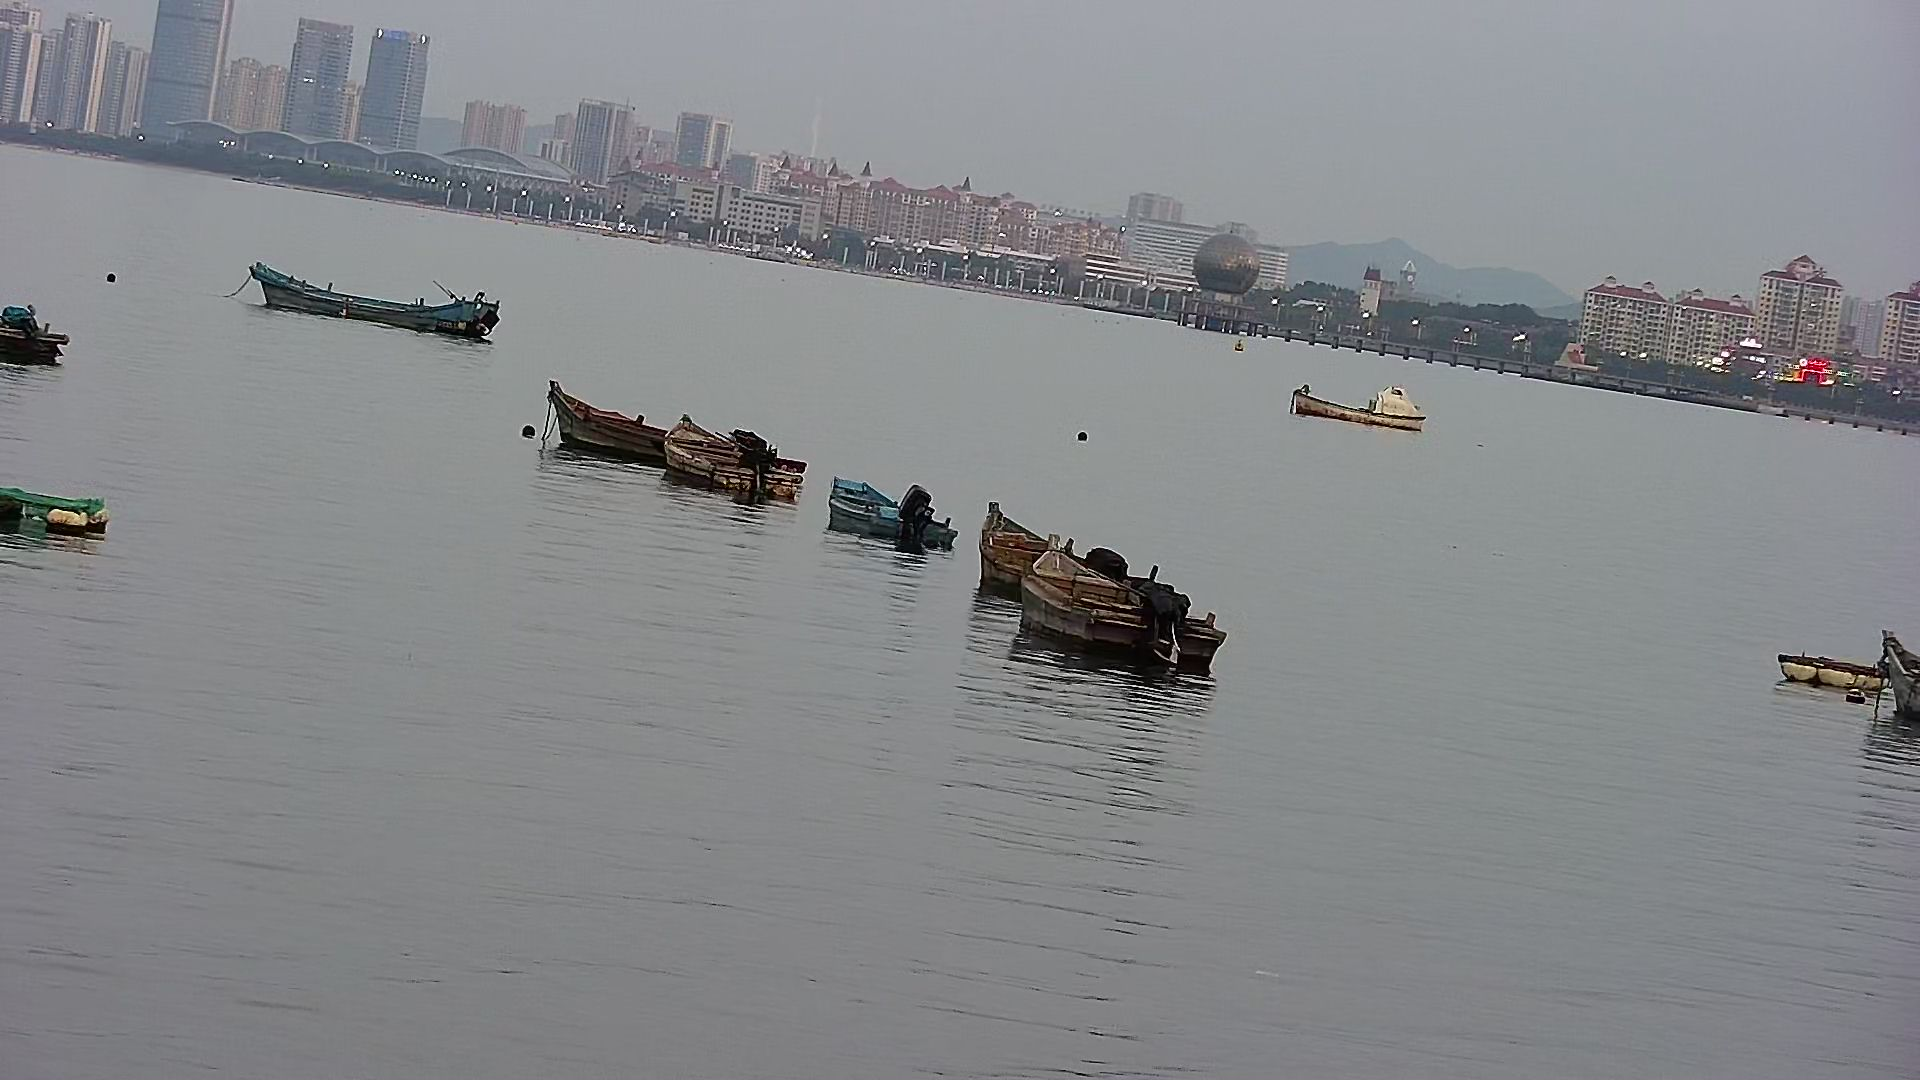boat: (1021, 542, 1237, 694), (245, 255, 510, 353), (662, 409, 810, 516), (1275, 361, 1443, 447), (819, 463, 955, 563), (531, 382, 694, 465), (1767, 651, 1886, 703)
